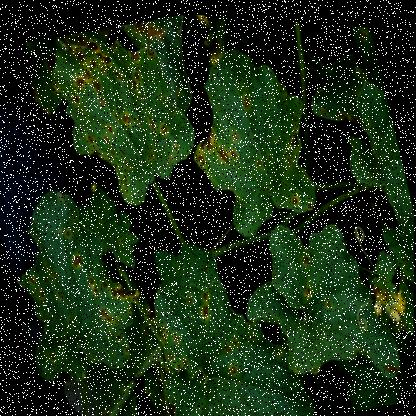AlternariaBrassicicola: (96, 299, 123, 328), (110, 279, 138, 299), (125, 64, 147, 89), (254, 147, 275, 169), (212, 134, 229, 161), (88, 72, 104, 95), (144, 107, 158, 132), (239, 85, 254, 108), (68, 247, 84, 268), (111, 62, 127, 83), (287, 181, 301, 204), (167, 323, 183, 343), (71, 70, 87, 89), (299, 243, 313, 264), (219, 333, 235, 351), (226, 139, 240, 159), (301, 275, 315, 295), (119, 104, 133, 123), (72, 44, 86, 63), (227, 357, 242, 374), (126, 43, 141, 60), (198, 298, 212, 316), (156, 115, 169, 134), (87, 281, 102, 297), (24, 269, 38, 286), (87, 53, 101, 70), (321, 290, 335, 305), (62, 222, 75, 238), (199, 281, 212, 297), (169, 134, 181, 151), (229, 123, 240, 141), (69, 89, 82, 104), (84, 128, 94, 144), (54, 284, 65, 298), (183, 288, 194, 301), (86, 269, 96, 283), (99, 274, 109, 287), (102, 129, 111, 142)
